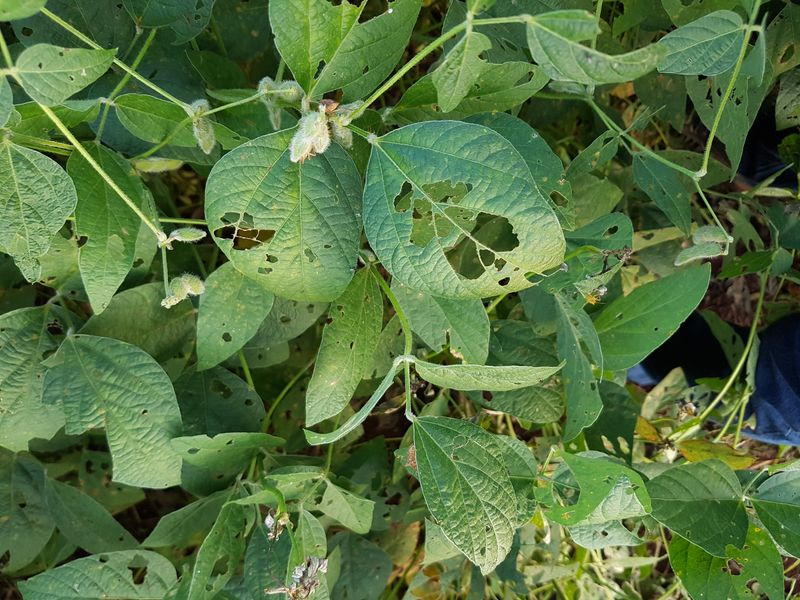Euschistus_heros_adulto: (311, 93, 343, 120)
